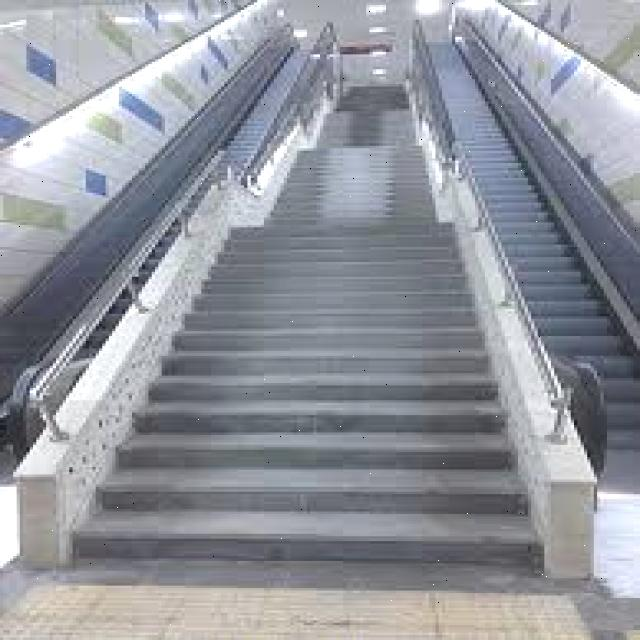stairs: (66, 136, 548, 574)
